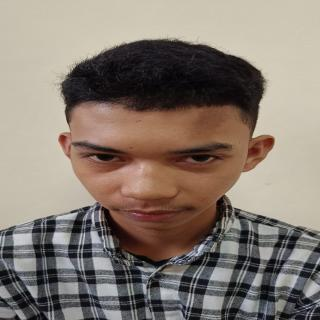Marah: (56, 92, 255, 233)
